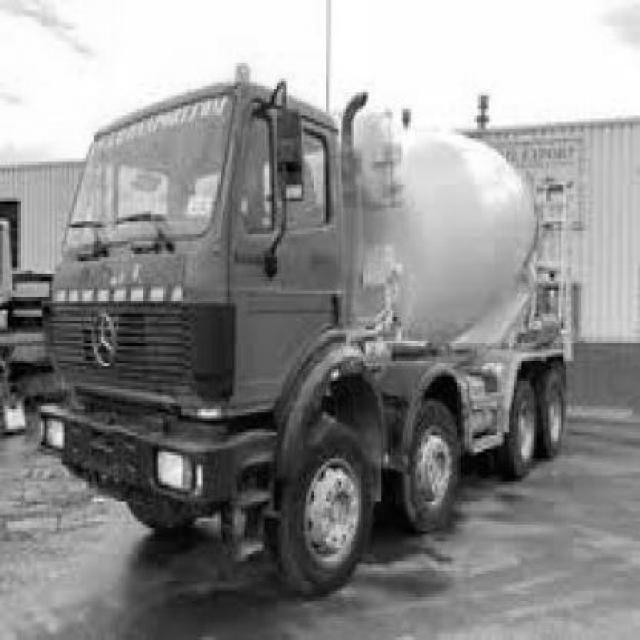Concrete Mixer: (42, 65, 576, 600)
